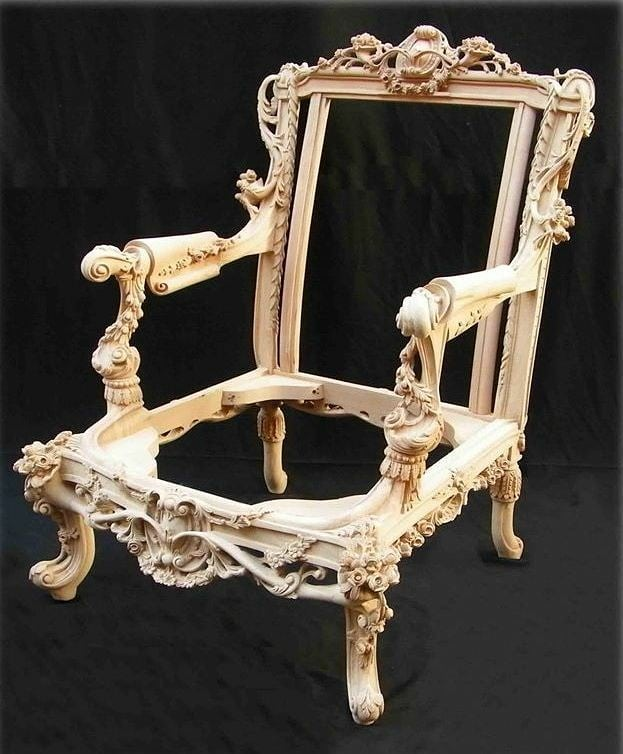Carving Chair: (33, 39, 623, 727)
